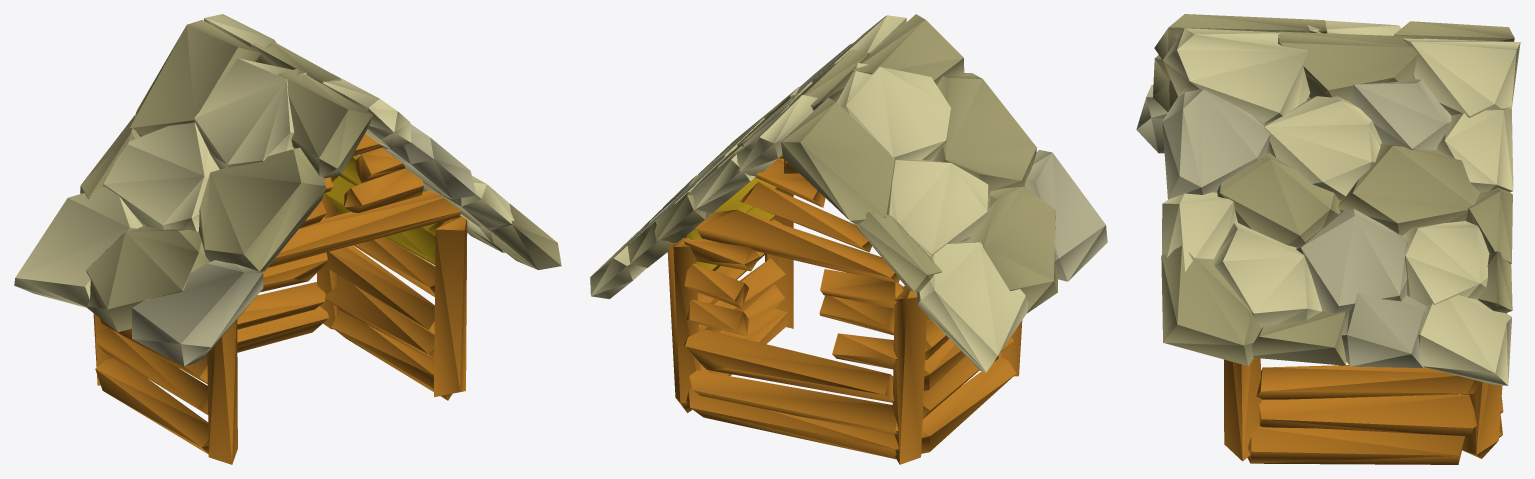
The model's file is house.fbx.
The picture shows the model from 3 angles, left to right: view 1: azimuth 30°, elevation 25°; view 2: azimuth 150°, elevation 25°; view 3: azimuth 270°, elevation 25°; orthographic projection. The views are drawn at different scales.
Parts seen in each view (by area): view 1: house; view 2: house; view 3: house.
Part boxes in pixels (x1,y1,x2,y2): house: [14, 14, 561, 464]; house: [590, 14, 1107, 464]; house: [1136, 14, 1520, 464].
Size of the model in its own units: 6.03 by 4.81 by 4.35.
